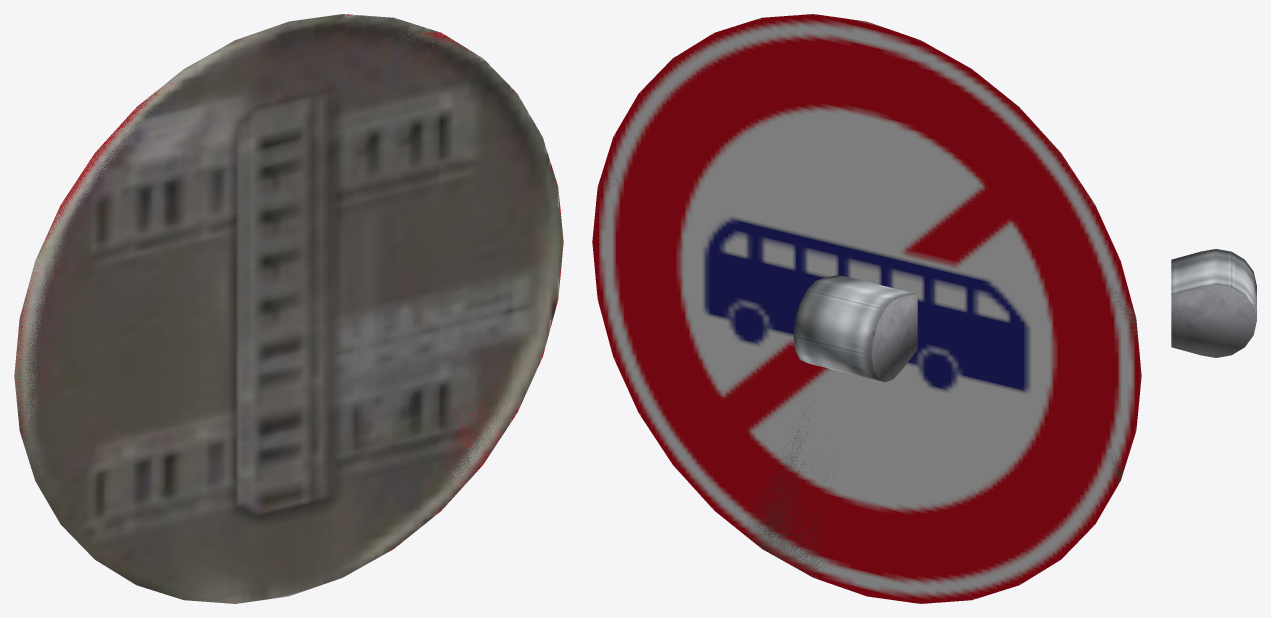
File: Parts_Plate_Circle900.fbx
The picture shows the model from 3 angles, left to right: view 1: azimuth 30°, elevation 25°; view 2: azimuth 150°, elevation 25°; view 3: azimuth 270°, elevation 25°; orthographic projection. The views are drawn at different scales.
Visible parts, largest first — view 1: 962_plate_circle900; view 2: 962_plate_circle900; view 3: 962_plate_circle900.
Boxes of the visible parts, bbox=[...] form: 962_plate_circle900: bbox=[14, 14, 563, 603]; 962_plate_circle900: bbox=[592, 14, 1141, 603]; 962_plate_circle900: bbox=[1171, 249, 1256, 357].
Size of the model in its own units: 0.9 by 0.9 by 0.1321.
